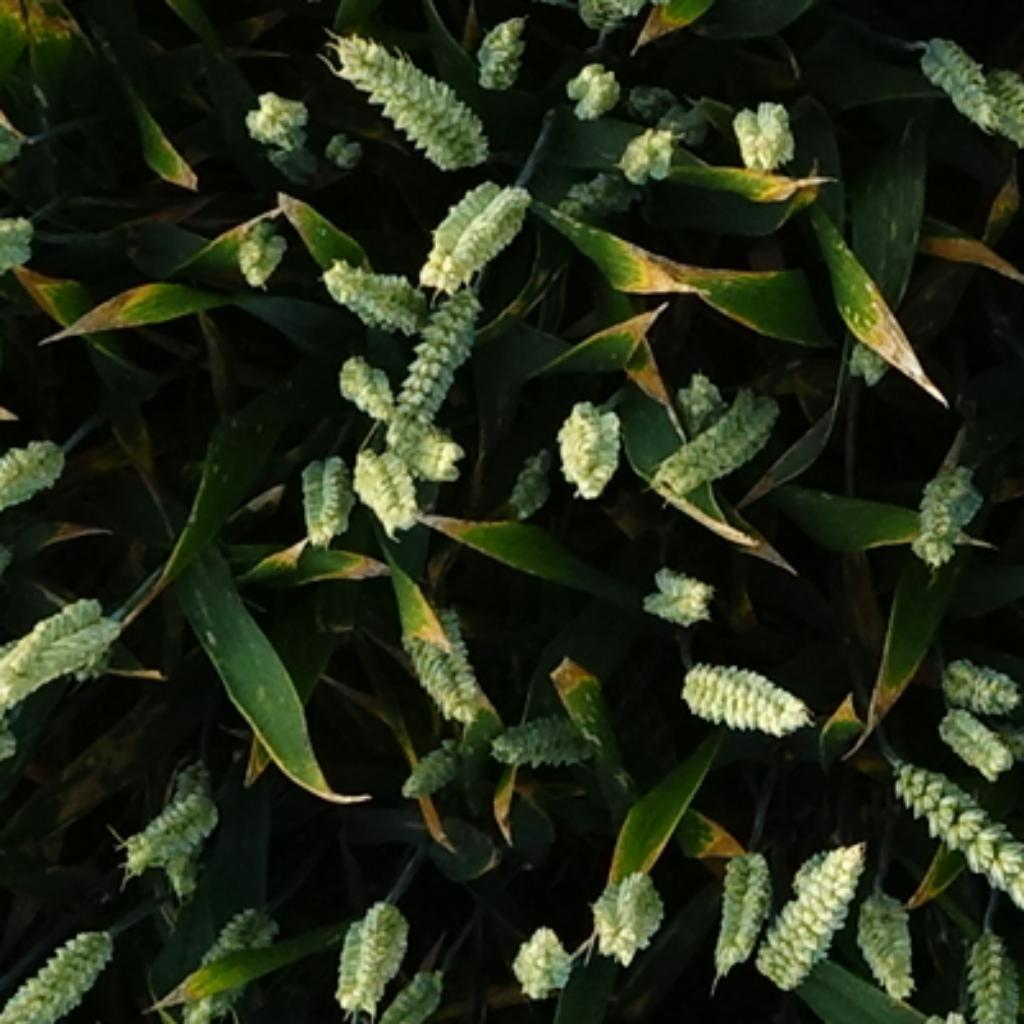0-0: (883, 757, 1024, 957), (330, 12, 494, 163), (655, 363, 793, 494), (760, 829, 865, 985), (419, 166, 540, 286), (908, 28, 1024, 153), (2, 596, 128, 711), (389, 591, 491, 724), (394, 279, 488, 419), (2, 911, 120, 1018), (675, 653, 819, 740), (102, 791, 245, 878), (181, 890, 281, 1008), (153, 752, 235, 890), (2, 583, 107, 683), (330, 895, 414, 1018), (908, 25, 1000, 128), (317, 245, 432, 327), (904, 459, 989, 569), (583, 865, 668, 967), (849, 875, 921, 995), (483, 703, 606, 772), (549, 396, 626, 504), (711, 834, 773, 965), (960, 46, 1024, 163), (954, 919, 1024, 1021), (351, 448, 425, 537), (401, 721, 488, 796), (291, 452, 355, 552), (381, 401, 463, 476), (931, 645, 1024, 711), (560, 153, 650, 220), (197, 893, 284, 962), (506, 916, 578, 998), (724, 87, 798, 166), (634, 552, 716, 619), (931, 701, 1016, 765), (2, 427, 71, 504), (239, 83, 315, 150), (471, 5, 535, 84), (229, 214, 296, 289), (611, 112, 683, 179), (504, 430, 560, 512), (332, 345, 399, 412), (670, 366, 729, 437), (562, 64, 626, 125), (383, 969, 444, 1024), (655, 97, 711, 148), (619, 76, 680, 122), (578, 0, 650, 38), (2, 204, 38, 268), (323, 130, 382, 168)
